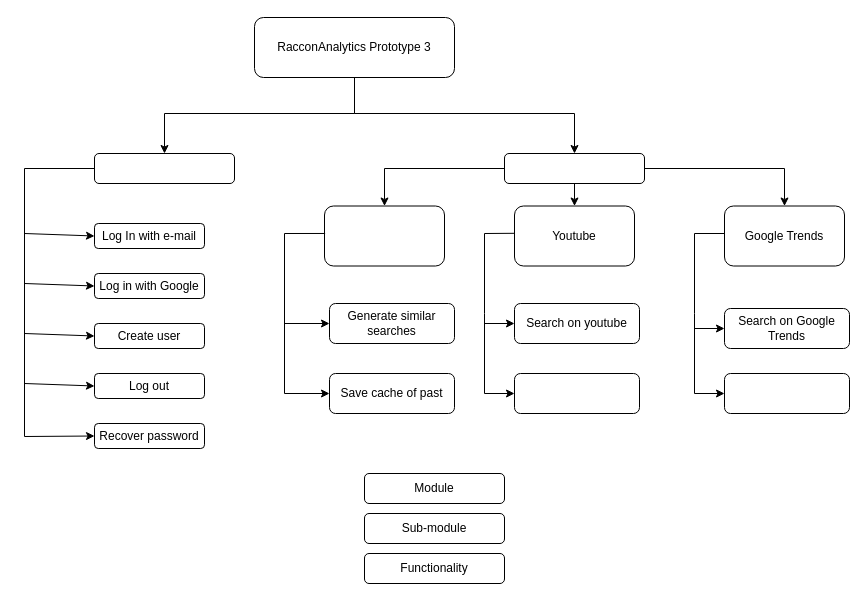
Some shapes in this 867 by 601 pixel diagram are drawn without their labels. The box of each missing label's shape, as (x1, y1, x2, y2) in pixels:
Generate Trends stats and graphics: (724, 372, 850, 414)
Generate youtube stats and graphics: (514, 372, 640, 414)
Optimize the search: (324, 205, 444, 266)
Search: (504, 152, 644, 184)
User Auth: (94, 152, 234, 184)
